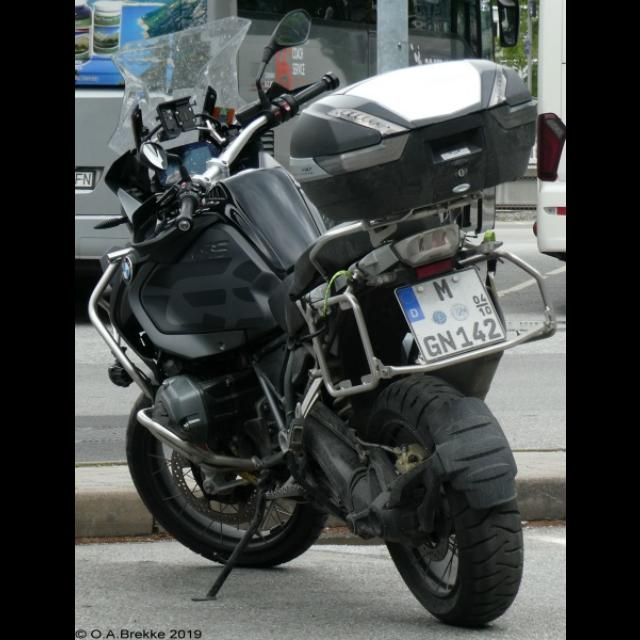d_license_plate: (394, 268, 504, 360)
